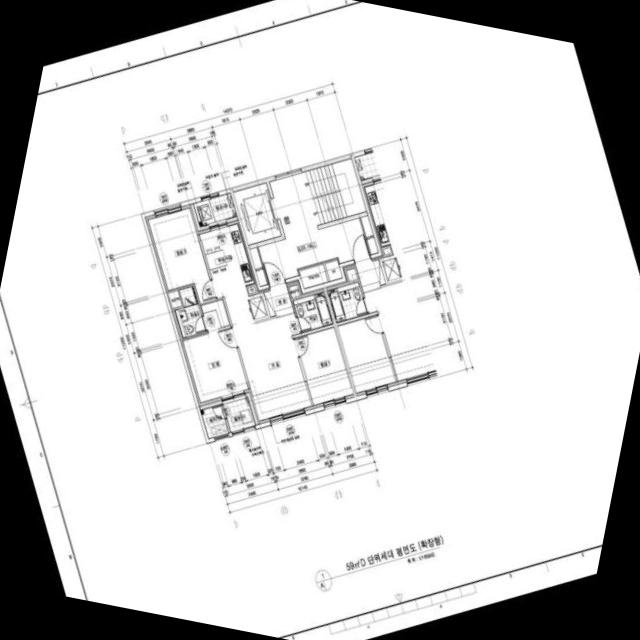background: (0, 0, 640, 640)
space_balconi: (191, 193, 237, 227), (224, 398, 255, 432)
space_bedroom: (146, 204, 216, 303), (181, 327, 249, 406), (295, 327, 355, 408)
space_dressroom: (201, 299, 230, 332)
space_elevator: (234, 183, 281, 245)
space_elevator_hall: (259, 173, 370, 284)
space_front: (263, 284, 294, 318)
space_kitchen: (199, 221, 256, 298)
space_living_room: (224, 290, 313, 424)
space_other: (299, 264, 328, 289), (361, 216, 379, 254), (250, 248, 267, 286), (325, 260, 342, 281), (167, 290, 182, 309), (289, 285, 300, 298), (248, 286, 256, 294)
space_outdoor_room: (201, 405, 230, 438)
space_staircase: (302, 159, 367, 225)
space_toilet: (293, 292, 334, 332), (175, 286, 206, 338)
